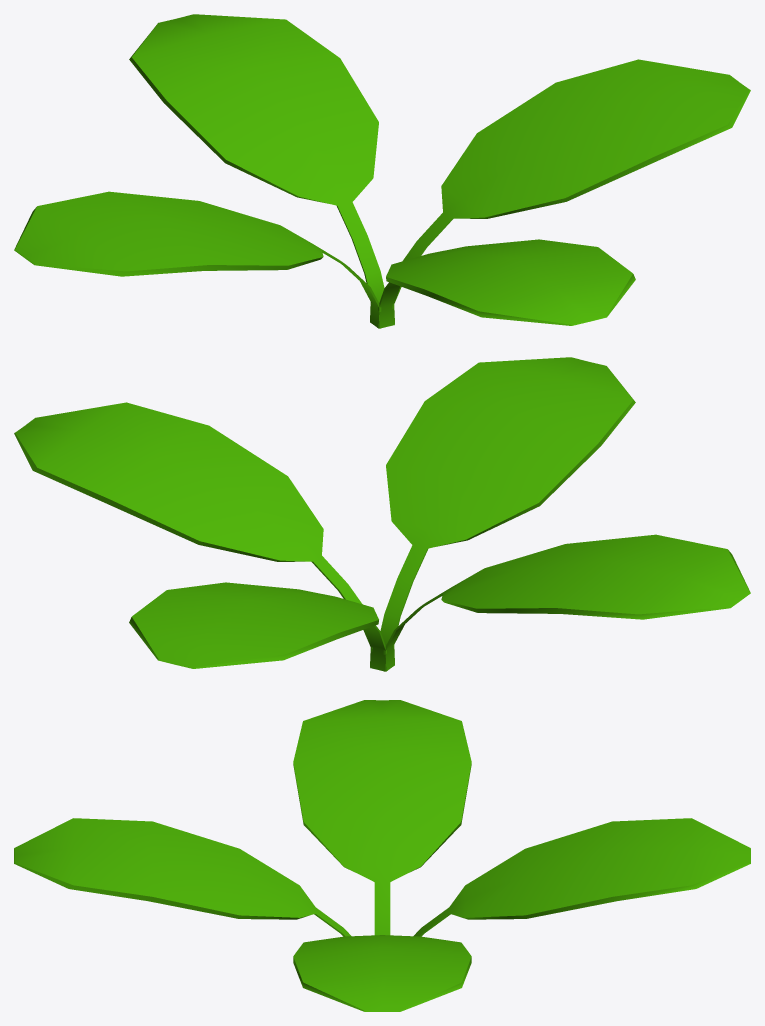
The model's file is plant.fbx.
The picture shows the model from 3 angles, top to bottom: view 1: azimuth 30°, elevation 25°; view 2: azimuth 150°, elevation 25°; view 3: azimuth 270°, elevation 25°; orthographic projection. The views are drawn at different scales.
Visible parts, largest first — view 1: pla; view 2: pla; view 3: pla.
Boxes of the visible parts, x1,y1,x2,y2 form: pla: [14, 14, 750, 328]; pla: [14, 357, 750, 671]; pla: [14, 700, 750, 1011].
Bounding box in the file's own units: 595 × 129 × 595.
